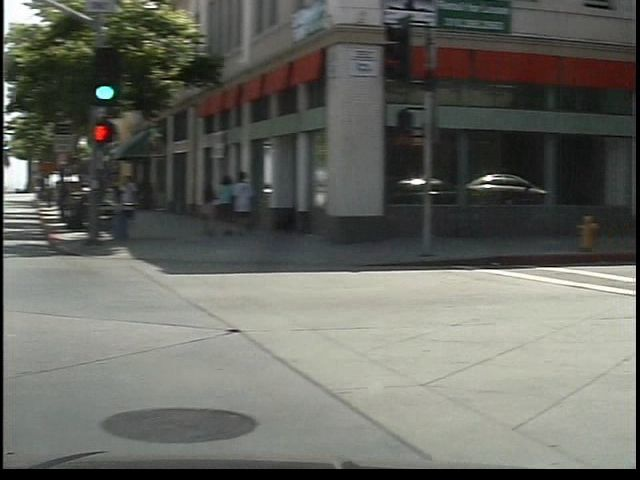person: (127, 169, 155, 230)
